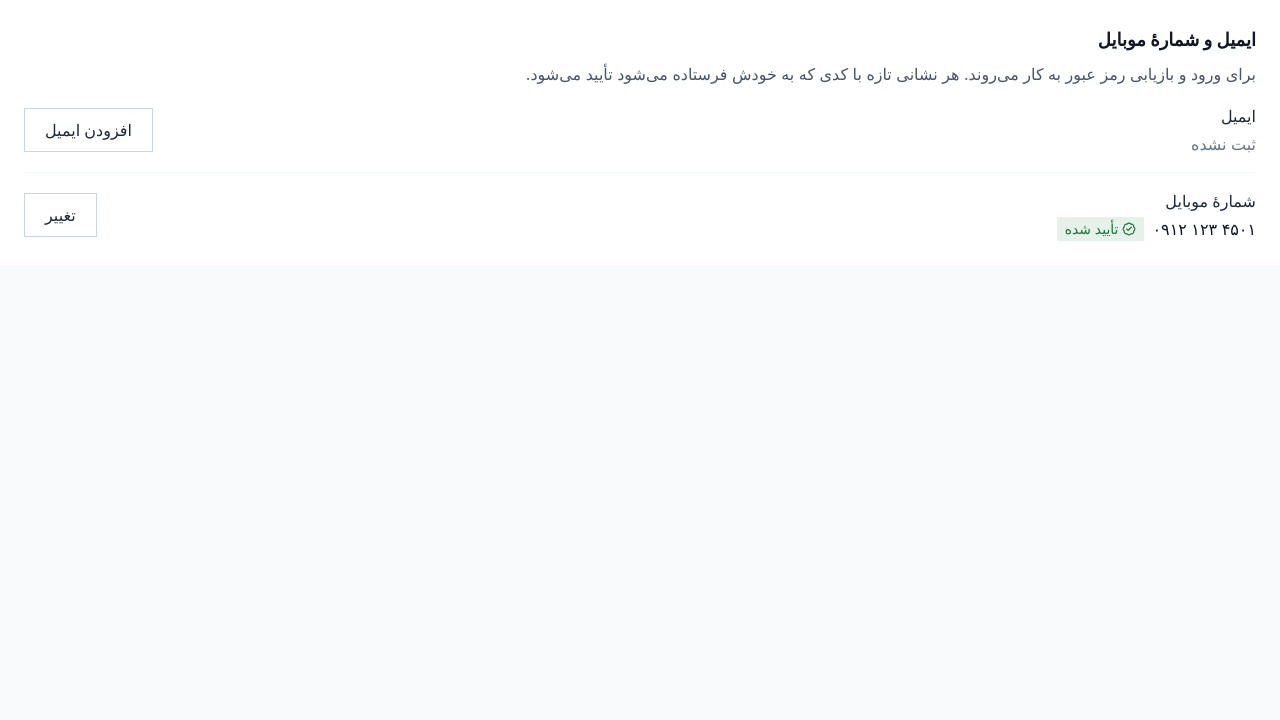
it: the proof a change asks for (§4.17) › adding an email: nothing (no verified one to protect)
The image size is (1280, 720).
Click the button "افزودن ایمیل" at (88, 130), box 24,108 -> 153,152
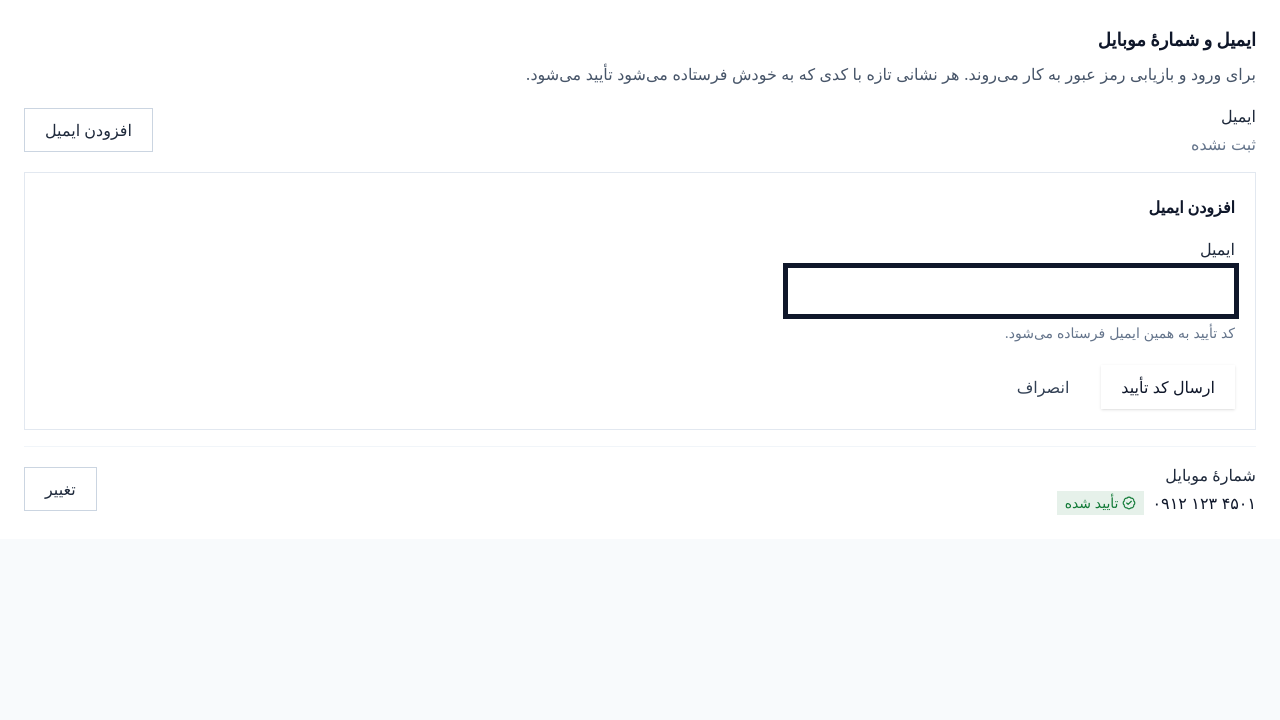
Expected: the field labelled "ایمیل" is shown, 788,268 -> 1234,314
